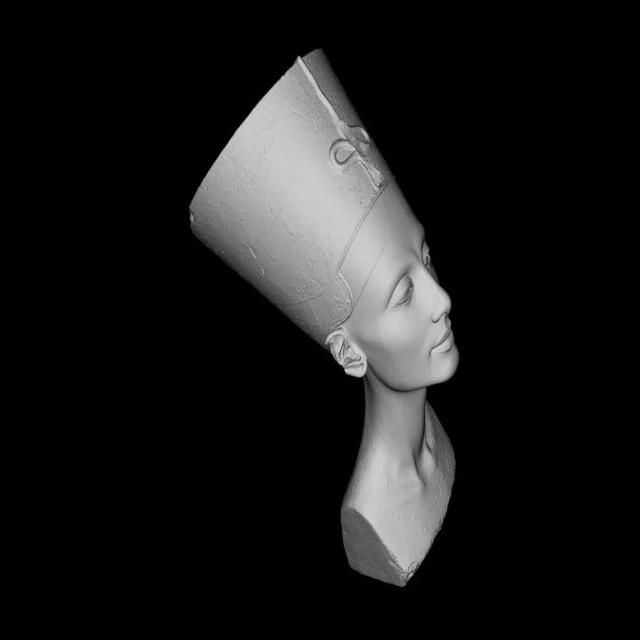Without deffect: (167, 36, 469, 592)
